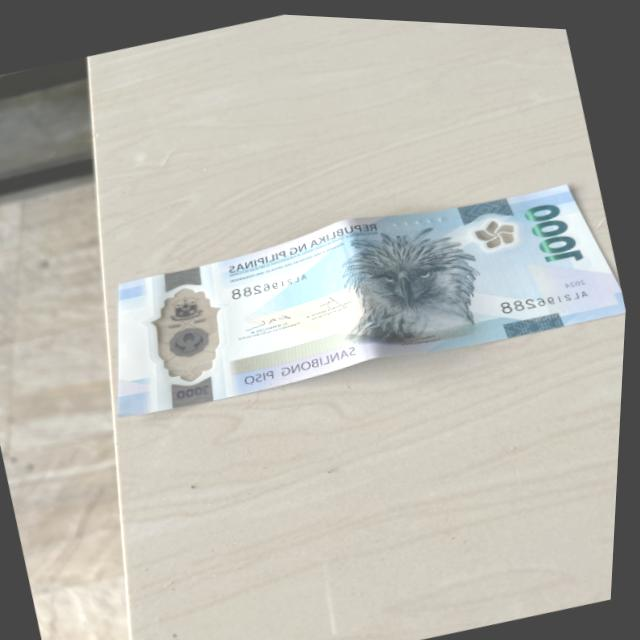clear_window: (131, 270, 244, 394)
eagle: (333, 199, 493, 350)
sampaguita: (468, 204, 524, 248)
